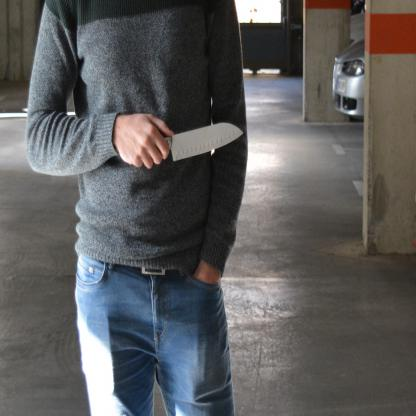knife: (158, 112, 248, 166)
